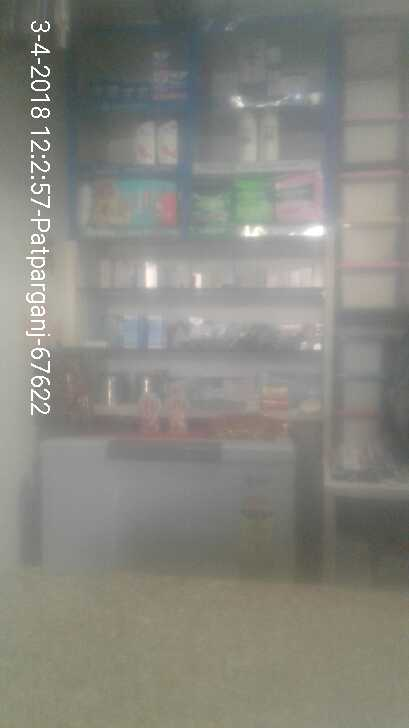vicks: (102, 77, 120, 103), (120, 77, 136, 103), (136, 78, 152, 103)
